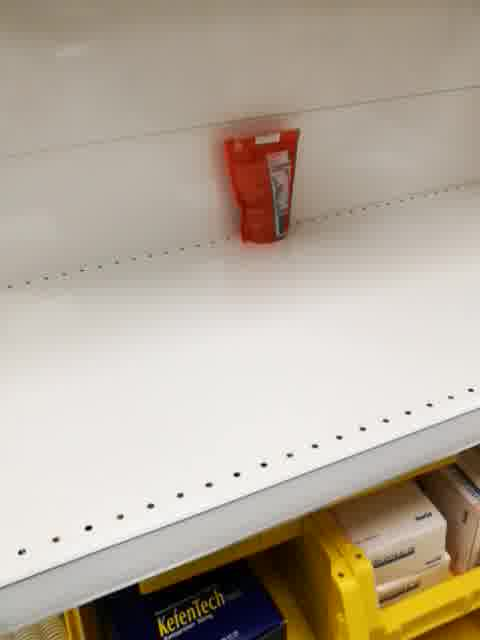whitechia: (215, 125, 301, 248)
